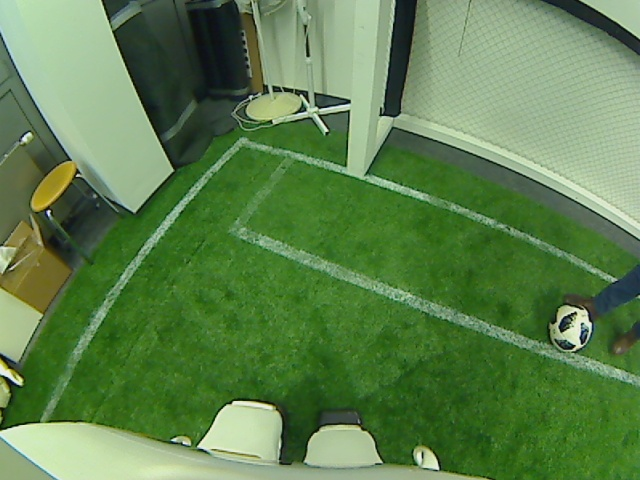ball: (548, 303, 592, 353)
